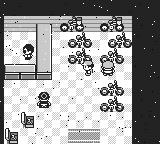leer: (100, 96, 123, 112), (109, 32, 132, 48), (69, 32, 91, 48), (100, 48, 123, 63), (69, 49, 92, 64), (101, 81, 124, 96)
main: (81, 61, 94, 75)
no-caminable: (1, 0, 160, 143), (3, 16, 132, 32), (37, 24, 51, 79), (5, 65, 35, 79), (21, 113, 34, 128), (5, 131, 18, 143)
npc: (101, 61, 115, 76), (38, 92, 51, 108), (22, 44, 34, 60)
puerta: (65, 128, 104, 143)
